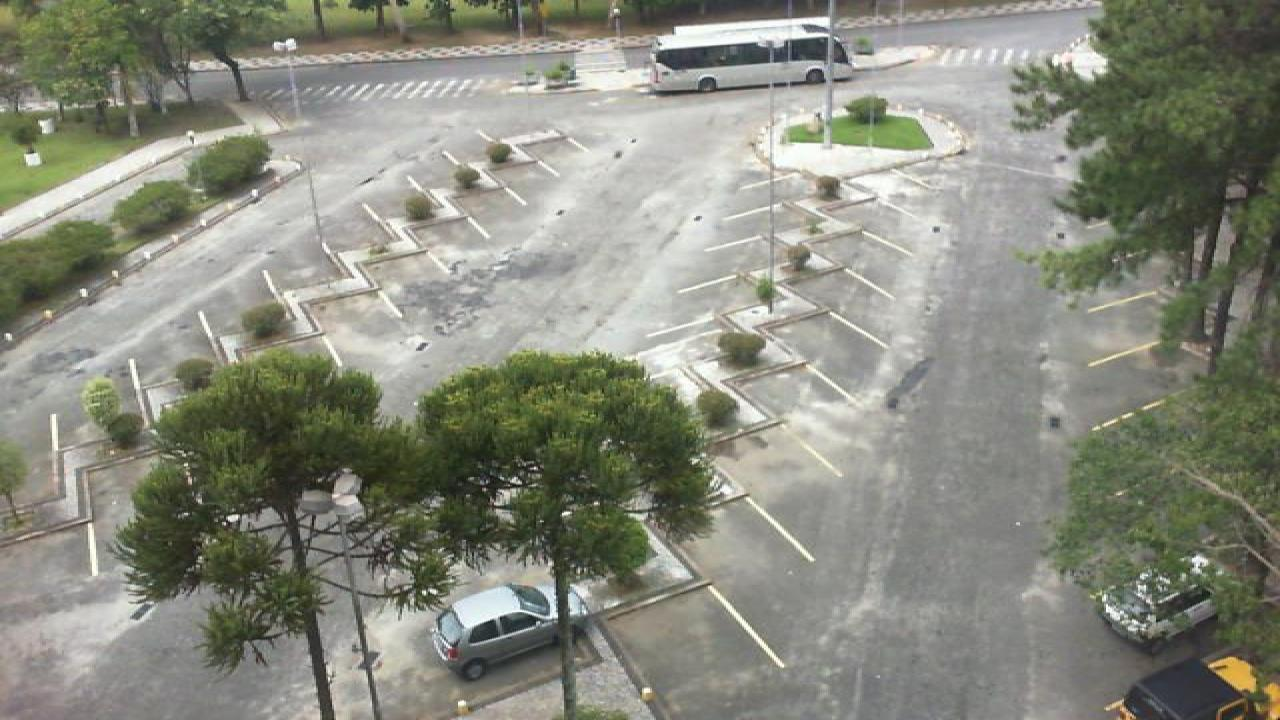Car: (426, 582, 592, 680), (1096, 556, 1218, 649)
